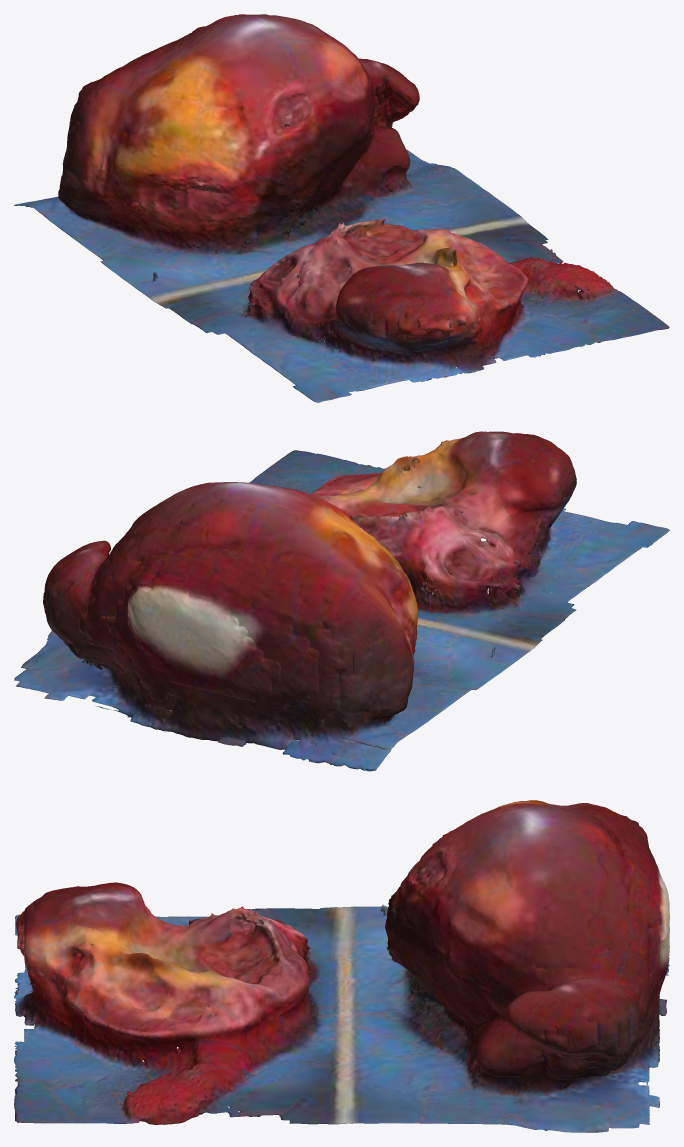
File: cysts.glb
3 renders of one model, top to bottom at view 1: azimuth 30°, elevation 25°; view 2: azimuth 150°, elevation 25°; view 3: azimuth 270°, elevation 25°, orthographic. The views are drawn at different scales.
Parts seen in each view (by area): view 1: Spleen; view 2: Spleen; view 3: Spleen.
Part boxes in pixels (x1,y1,x2,y2): Spleen: (14,14,669,402); Spleen: (14,431,669,771); Spleen: (14,800,669,1132).
Bounding box in the file's own units: 0.0149 × 0.00749 × 0.0201.
1 material, 1 textured.
